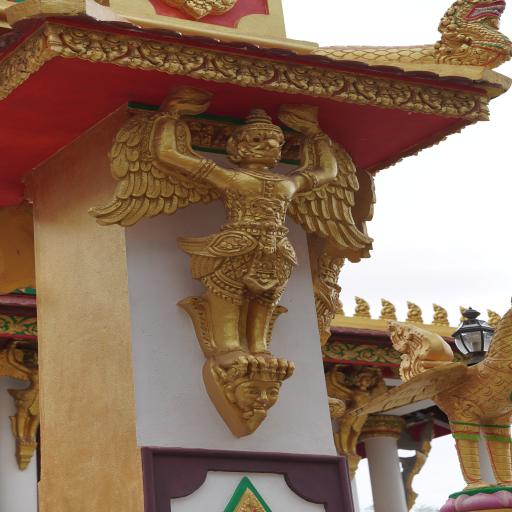lua: (400, 297, 430, 326), (348, 293, 378, 321), (472, 305, 504, 331), (424, 301, 454, 328), (373, 294, 401, 321), (449, 304, 477, 330)
ran: (320, 0, 512, 73)
than: (87, 68, 368, 446), (316, 353, 390, 465), (1, 339, 62, 474), (219, 366, 288, 417)
